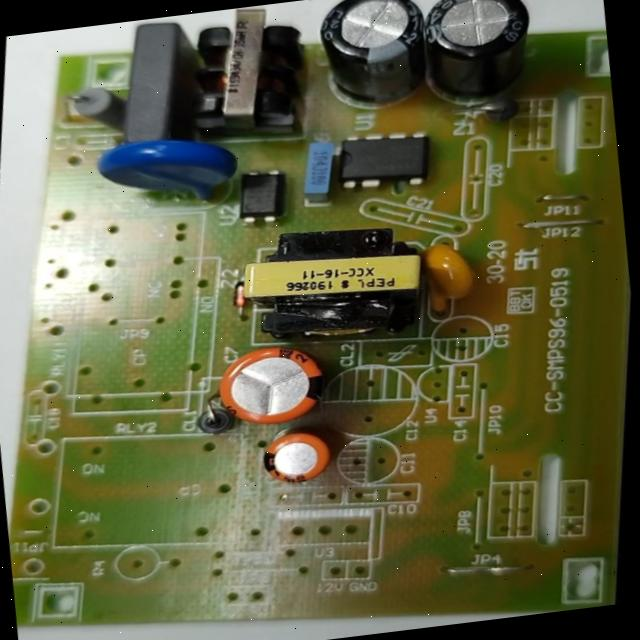Cap1: (202, 328, 343, 436)
Cap2: (249, 420, 347, 494)
Cap3: (296, 0, 447, 123)
Cap4: (404, 0, 549, 113)
MOSFET: (322, 116, 447, 204)
Mov: (78, 119, 265, 222)
Resistor: (56, 73, 146, 140)
Transformer: (219, 204, 454, 368), (160, 0, 333, 157)
